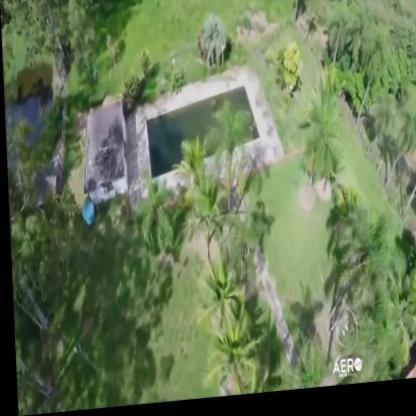agua: (160, 88, 244, 172)
